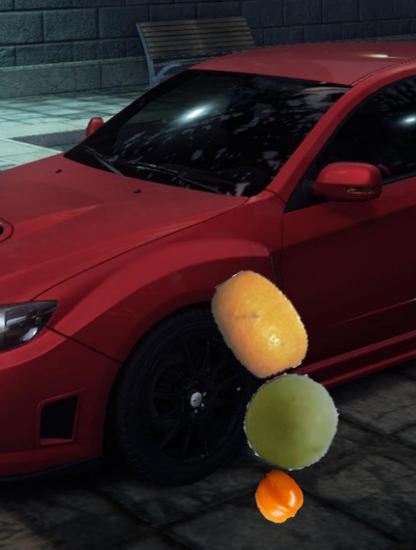Grape: (244, 372, 340, 468)
Kumquats: (204, 269, 316, 381)
Pepper: (253, 472, 304, 523)
